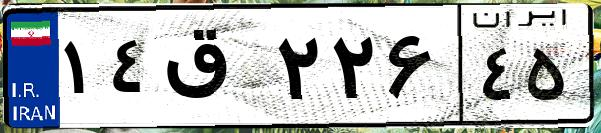1: (57, 26, 110, 100)
2: (270, 28, 330, 110), (330, 28, 385, 110)
4: (475, 38, 525, 113), (110, 28, 158, 98)
5: (525, 38, 570, 115)
6: (385, 28, 445, 110)
ق: (158, 20, 270, 120)
